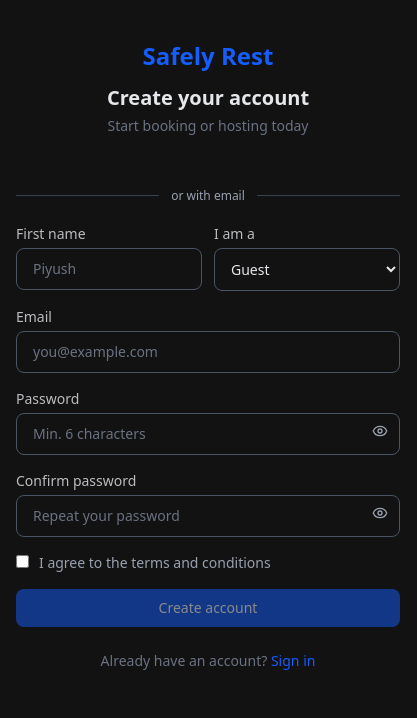
Test: Signup page › should show error when passwords do not match
The width and height of the screenshot is (417, 718).
Click the checkbox: (22, 561) [16,554,29,568]
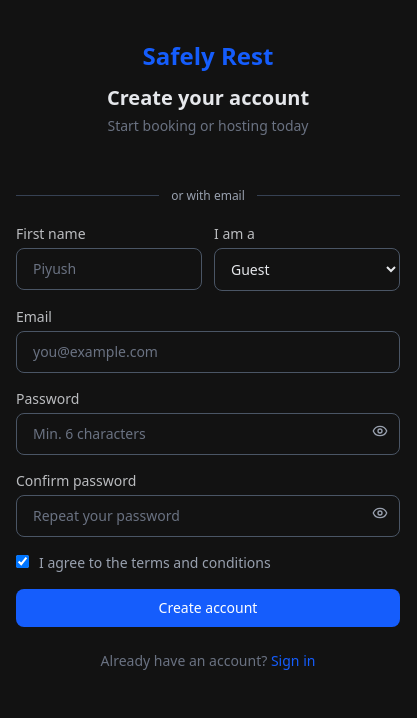
In the password field with placeholder "Min. 6 characters": (208, 434) [16,412,400,454], type "123456"
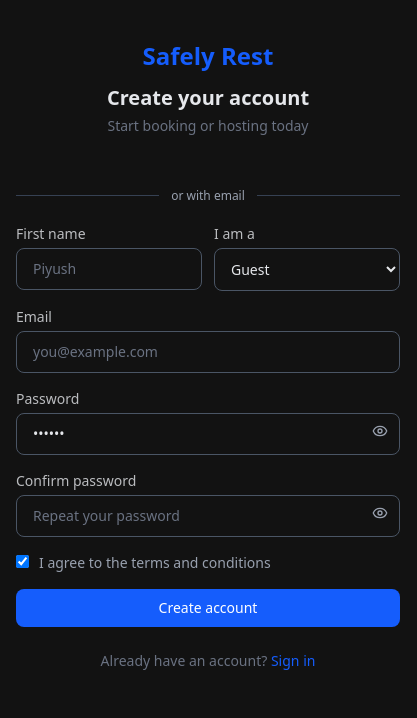
In the password field with placeholder "Repeat your password": (208, 516) [16,494,400,536], type "654321"
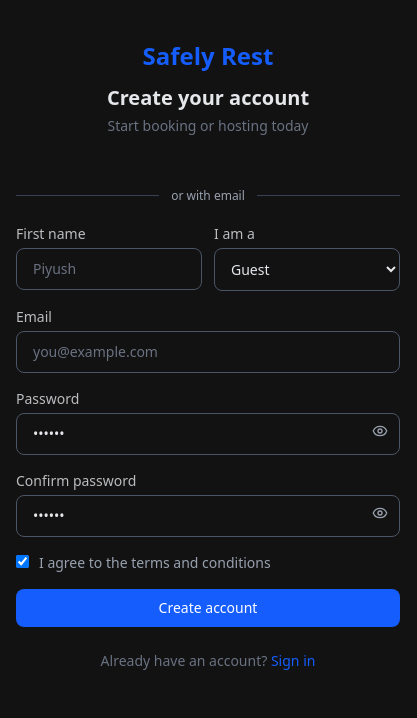
Submit the form named "create account", box [16,224,400,626]
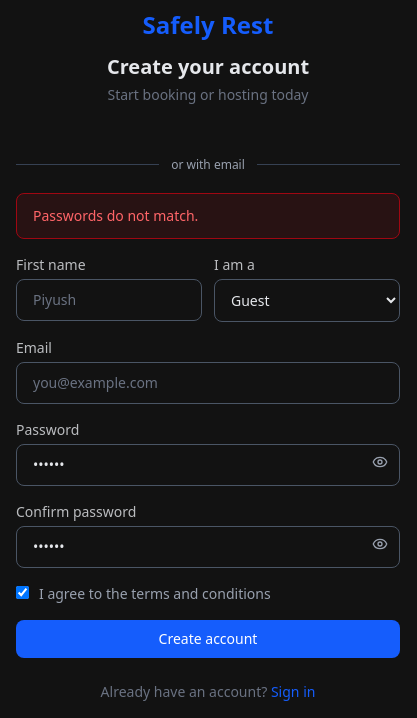
Result: the text "Passwords do not match." is shown at [16,192,400,238]
